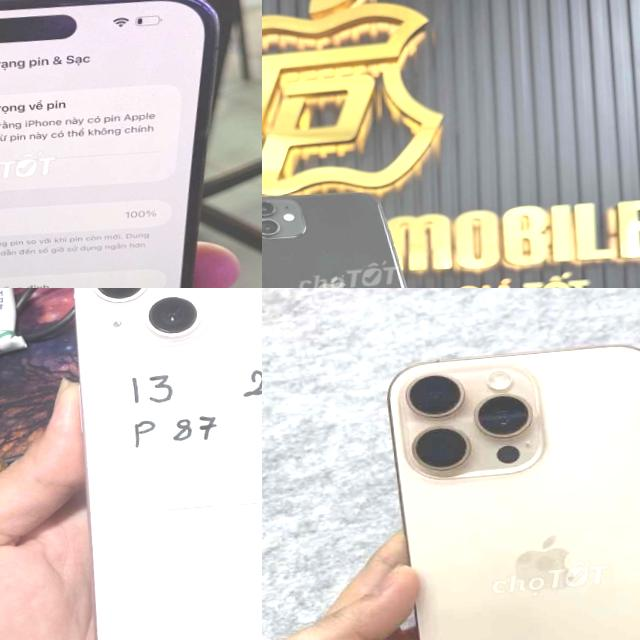scratch: (262, 197, 279, 236)
